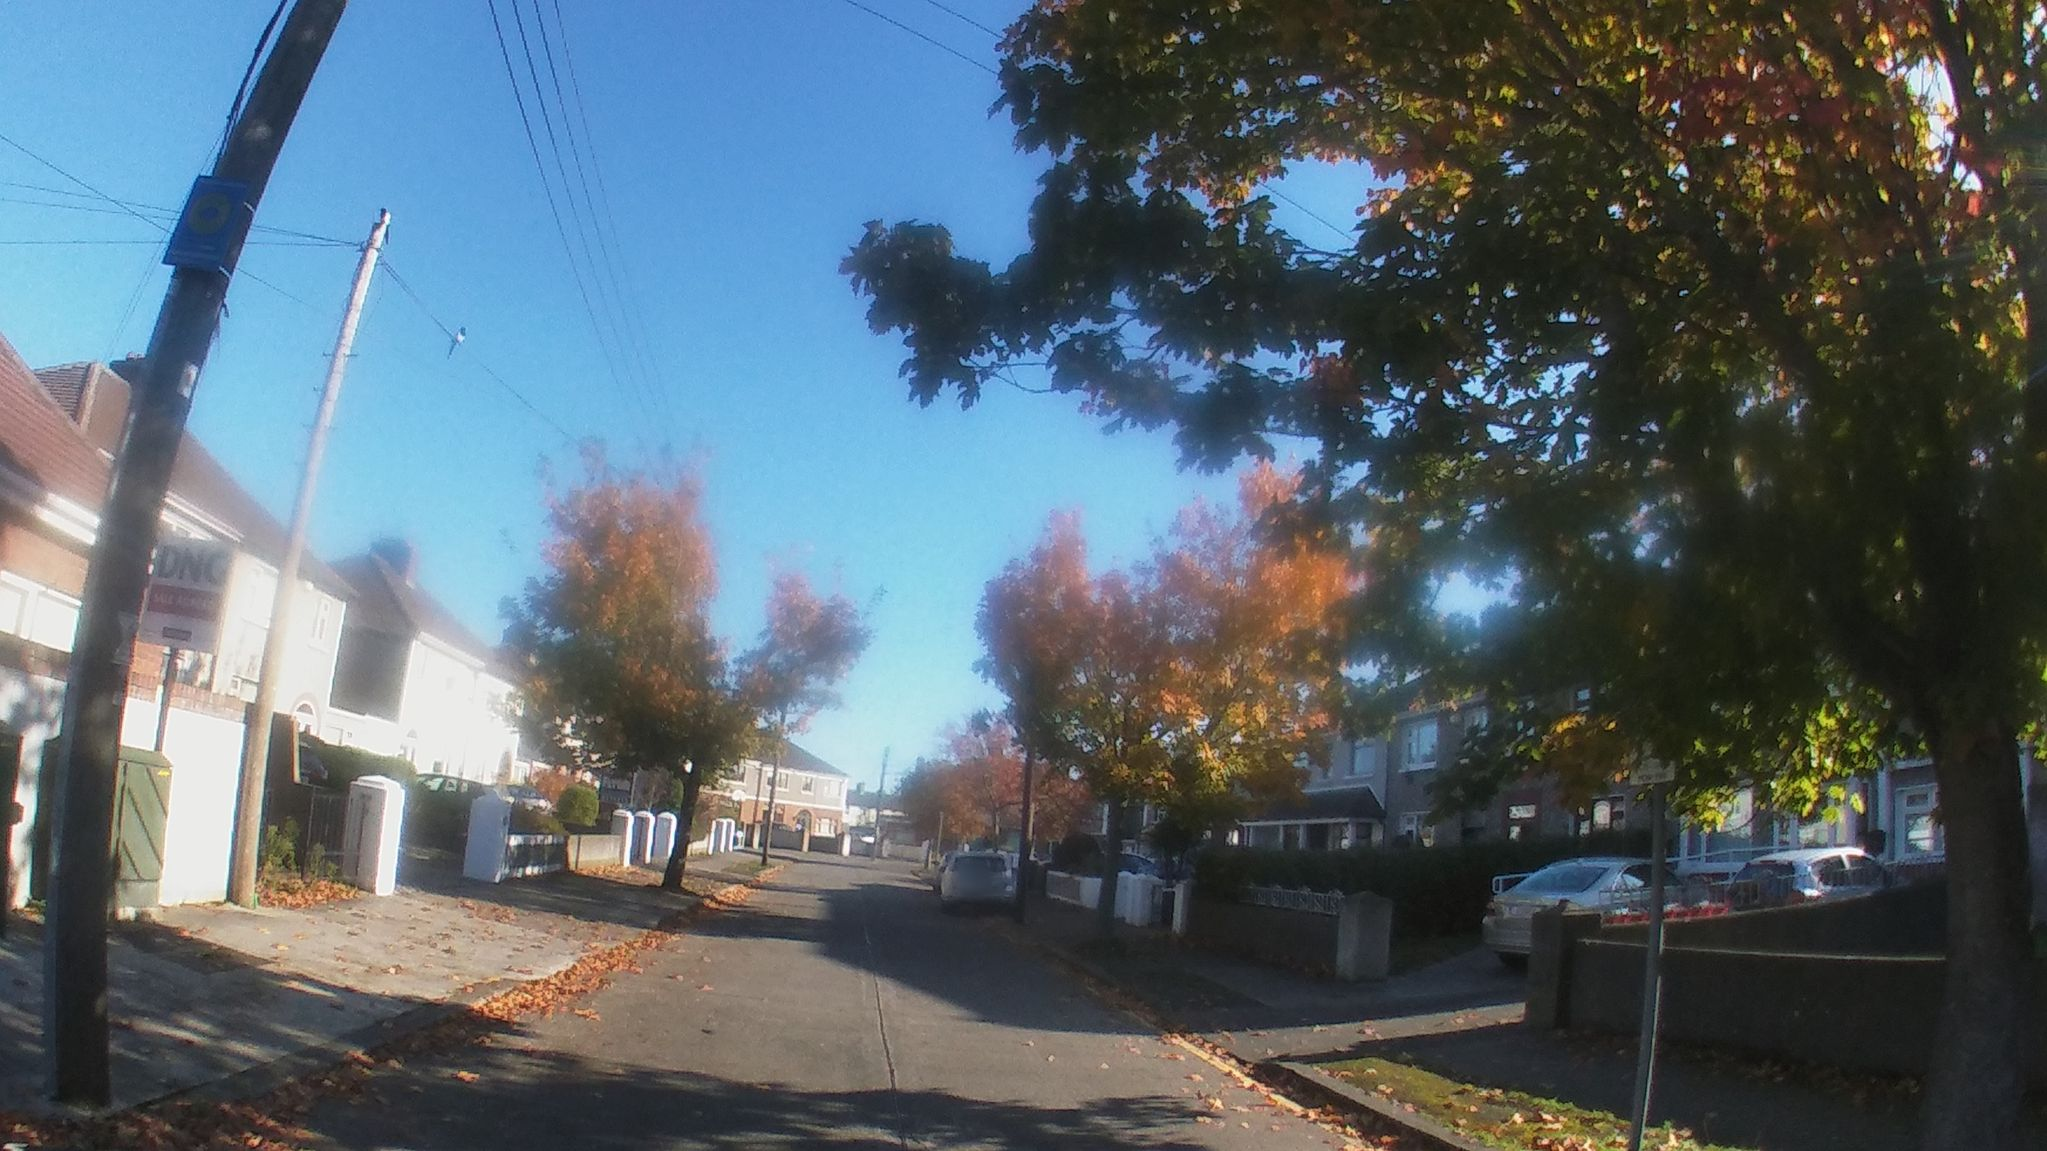property sign: (132, 517, 238, 672)
